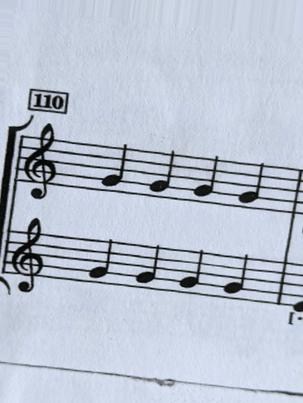note: (233, 160, 268, 217), (98, 140, 132, 196), (82, 236, 119, 287), (173, 245, 207, 298), (130, 242, 162, 293), (219, 253, 252, 302), (149, 148, 178, 201), (190, 153, 219, 203)
